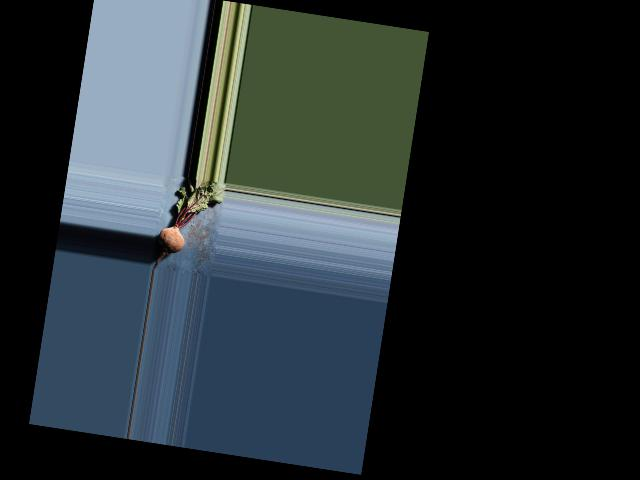beet: (153, 173, 226, 277)
